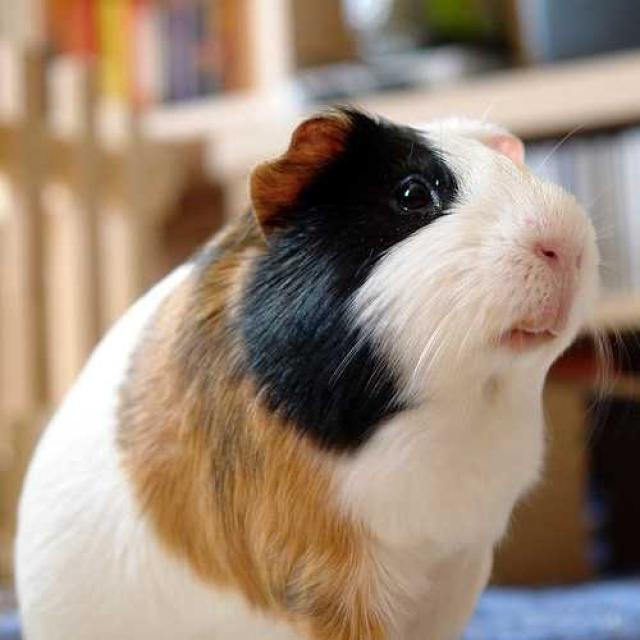guinea pig: (14, 105, 602, 640)
